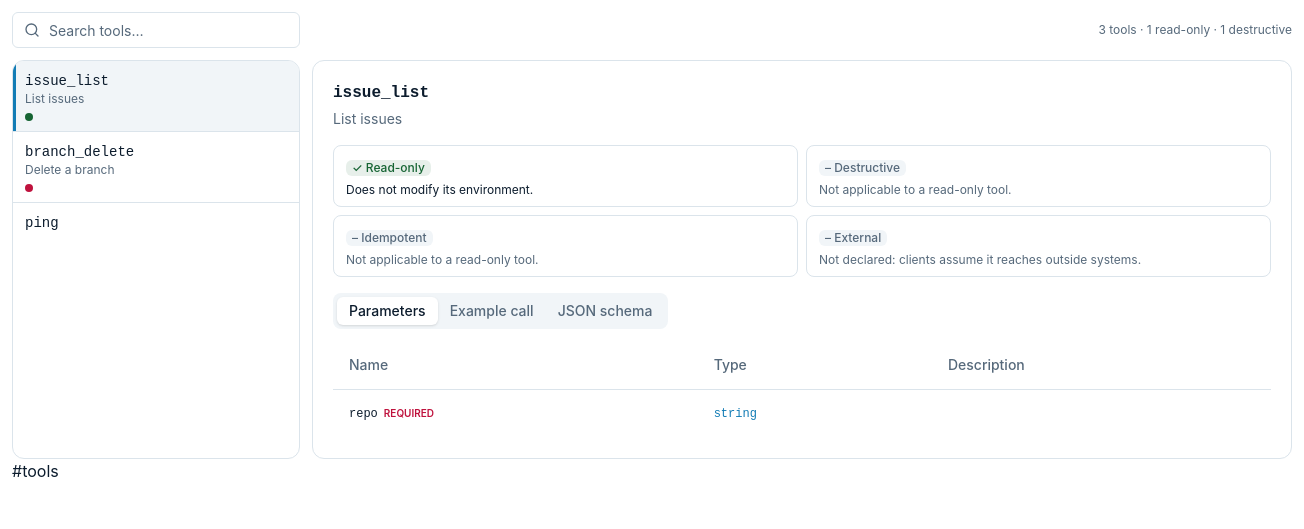
ToolsExplorer › selects a tool into the URL and keeps the tab hash
This screenshot has width=1304, height=529.
Click the button "branch_delete Delete a branch": (80, 152) 13,132 -> 299,202
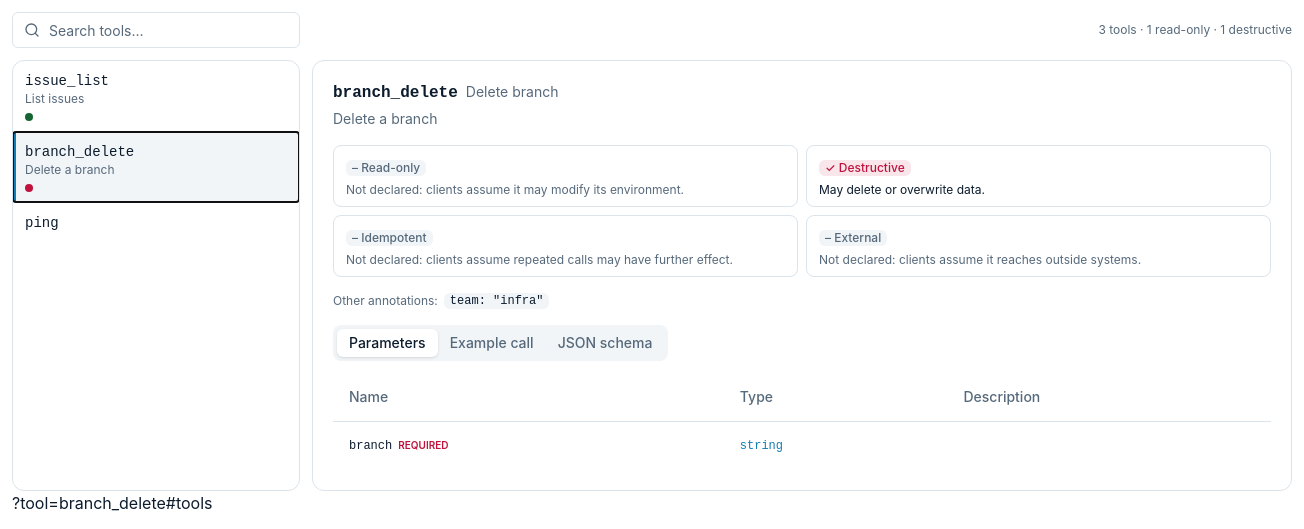
Expected: the heading "branch_delete" is shown, 333,81 -> 458,105
Expected: the text "Delete branch" is shown, 466,82 -> 558,102
Expected: the text "team: \"infra\"" is shown, 444,293 -> 549,309
